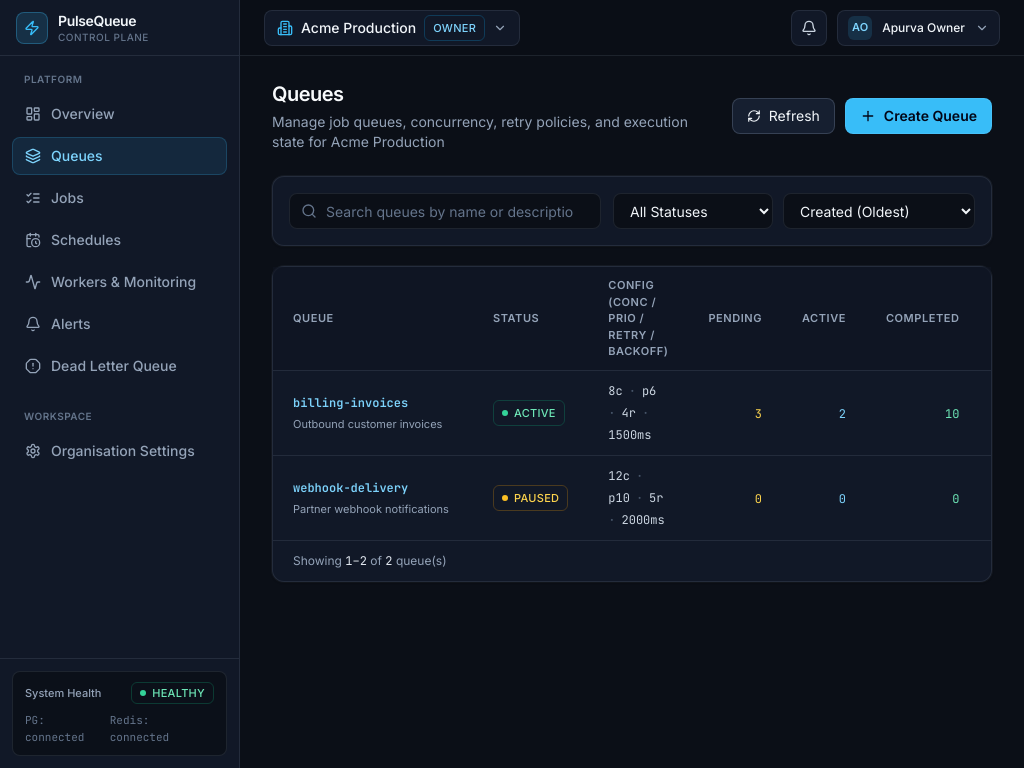
Queue Management UI — Overview, CRUD, Pause/Resume, Detail & RBAC (Step 6.2) › renders queue list with real configuration, status badges, and job status counts, plus search and status filter
Later steps or results of the test are not shown.
Expected: the link "billing-invoices" is shown, [293,394,408,410]
Expected: the link "webhook-delivery" is shown, [293,480,408,496]
Filter by search query
In the search field labelled "Search queues by name": (445, 211) [289,193,601,229], type "webhook"
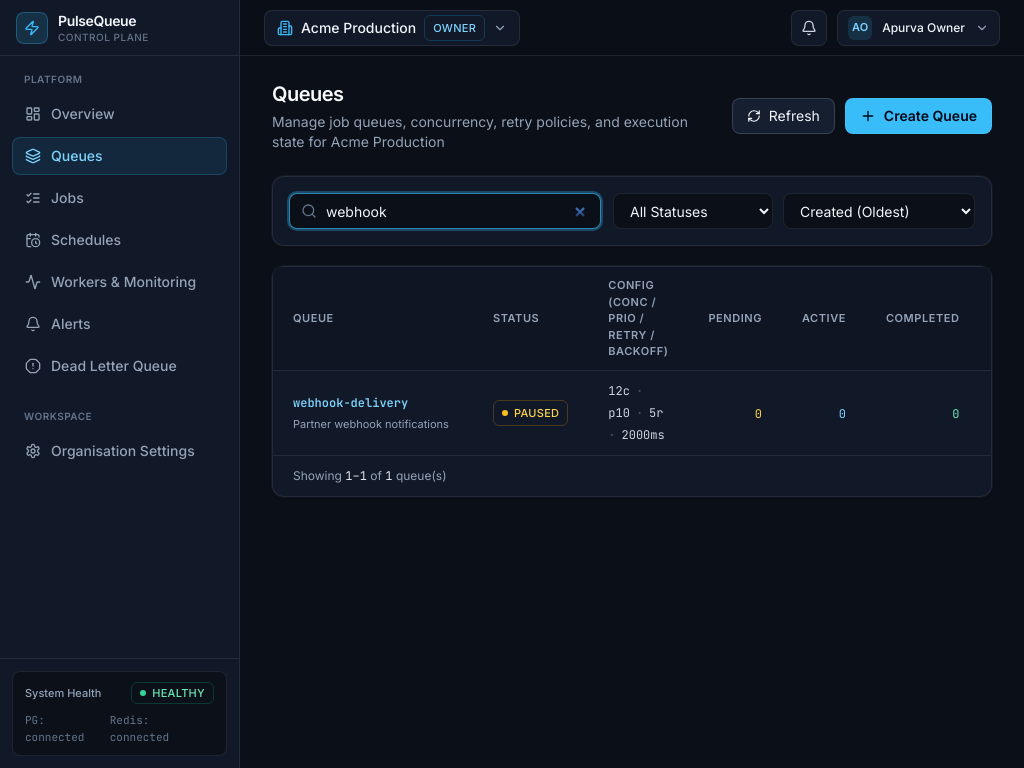
Expected: the link "webhook-delivery" is shown, [293,394,408,410]
Expected: the link "billing-invoices" is gone
Clear the search field named "Search queues by name": (445, 211) [289,193,601,229]
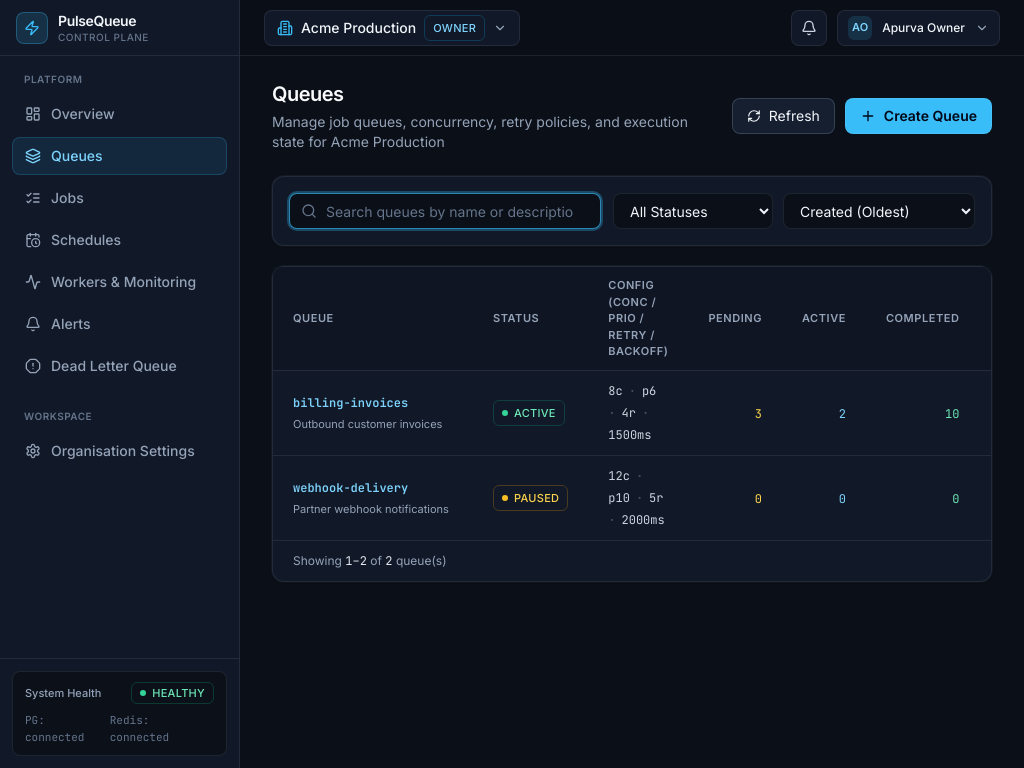
Expected: the link "billing-invoices" is shown, [293,394,408,410]
